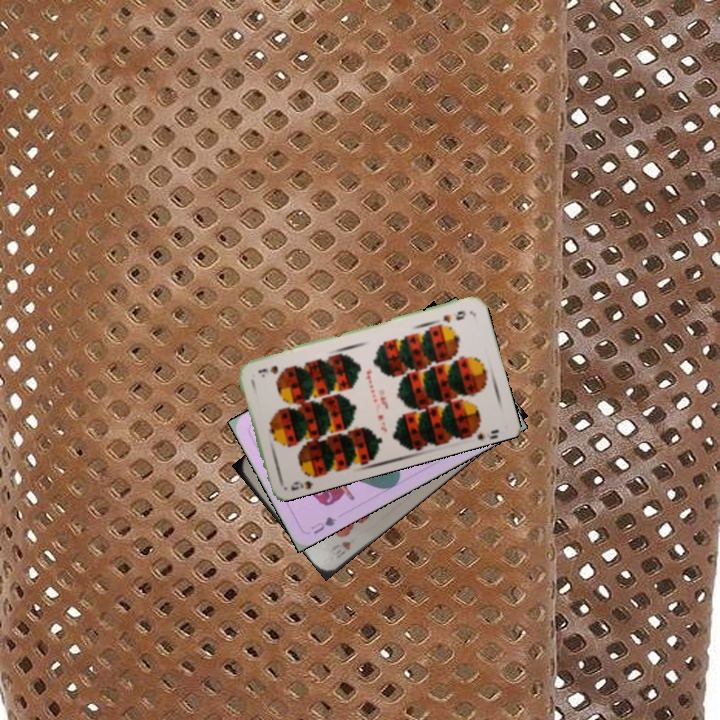GU: (307, 512, 338, 537)
H10: (326, 537, 354, 561)
S9: (287, 468, 322, 493), (439, 307, 469, 325)
